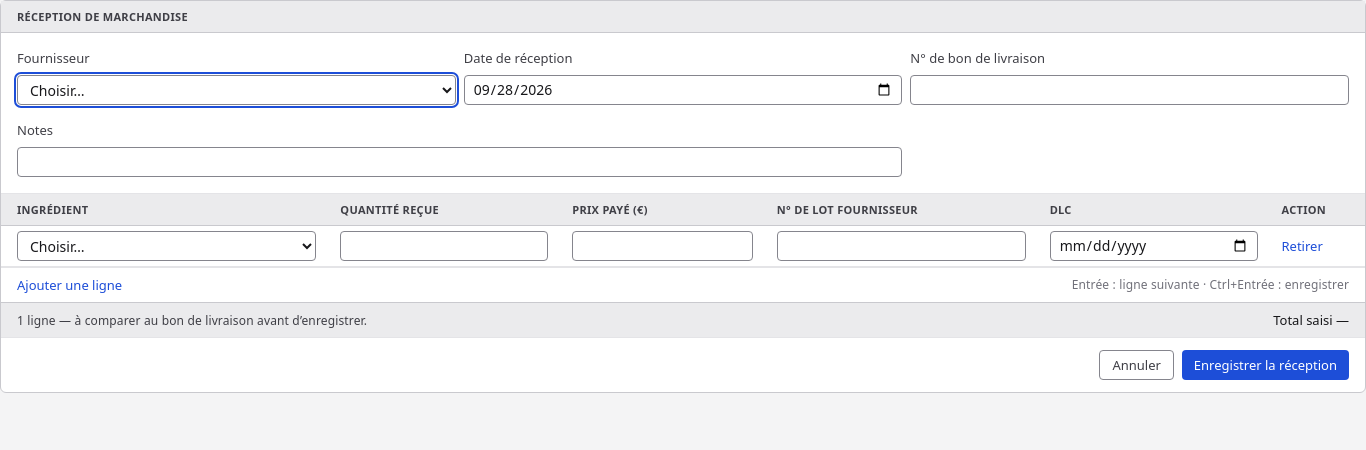
Test: SaisieReception — la commande à solder (D-036) › le sélecteur n’apparaît QU’UNE FOIS un fournisseur choisi, jamais vide en permanence
Expected: the dropdown labelled "Commande à solder" is not shown
Select "Moulin de Hollogne" in the dropdown labelled "Fournisseur" at (236, 90), box [17,75,456,105]
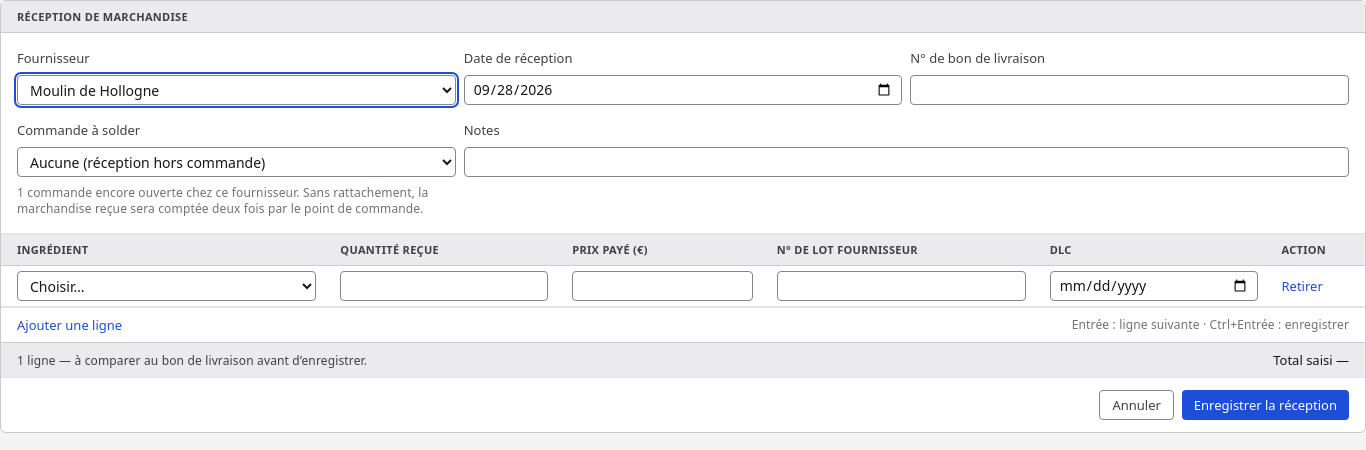
Result: the dropdown labelled "Commande à solder" is shown at [17,147,456,177]
